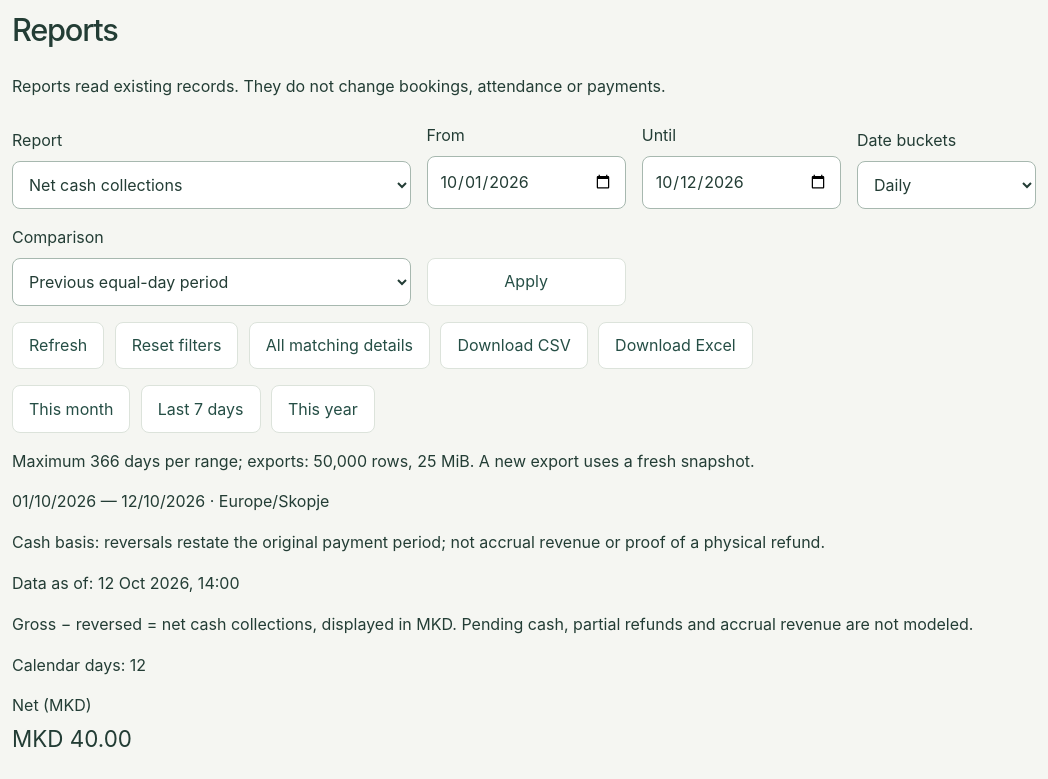
it: applies a studio-day preset and explains incomplete custom comparisons
Expected: the text "Europe/Skopje" is shown, [219,492,329,512]
Click the button "Last 7 days": (201,409) [141,385,261,433]
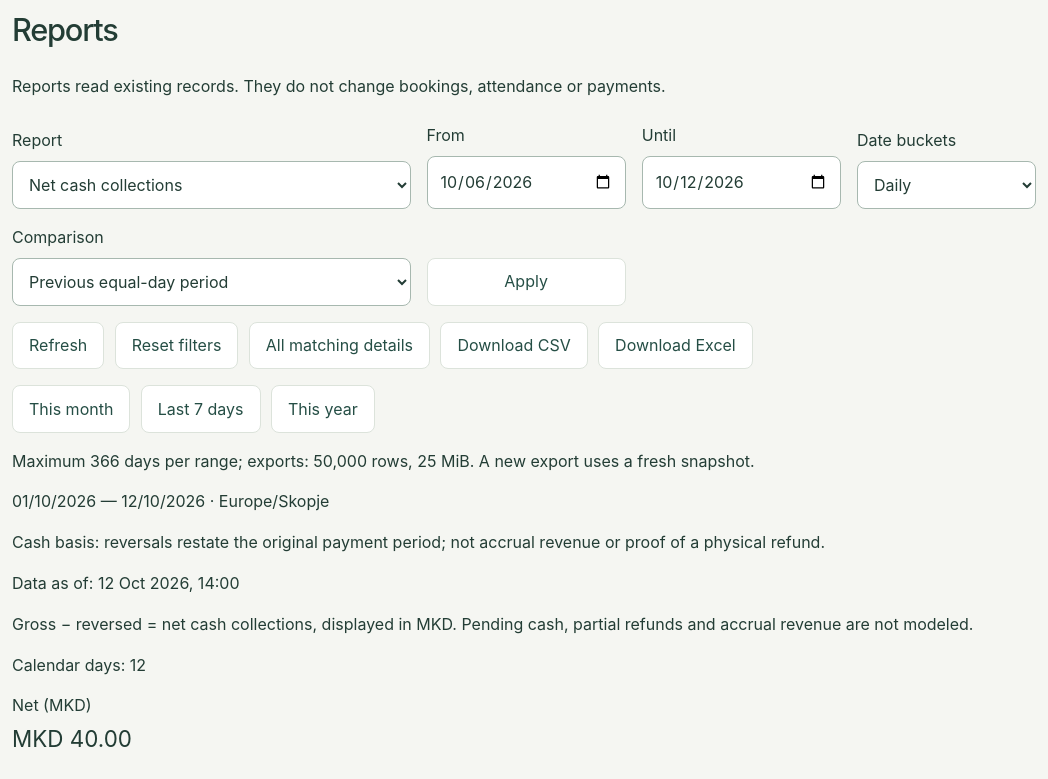
Expected: the text "Europe/Skopje" is shown, [219,492,329,512]
Select "Custom period" in the dropdown labelled "Comparison": (211,282) [12,258,410,306]
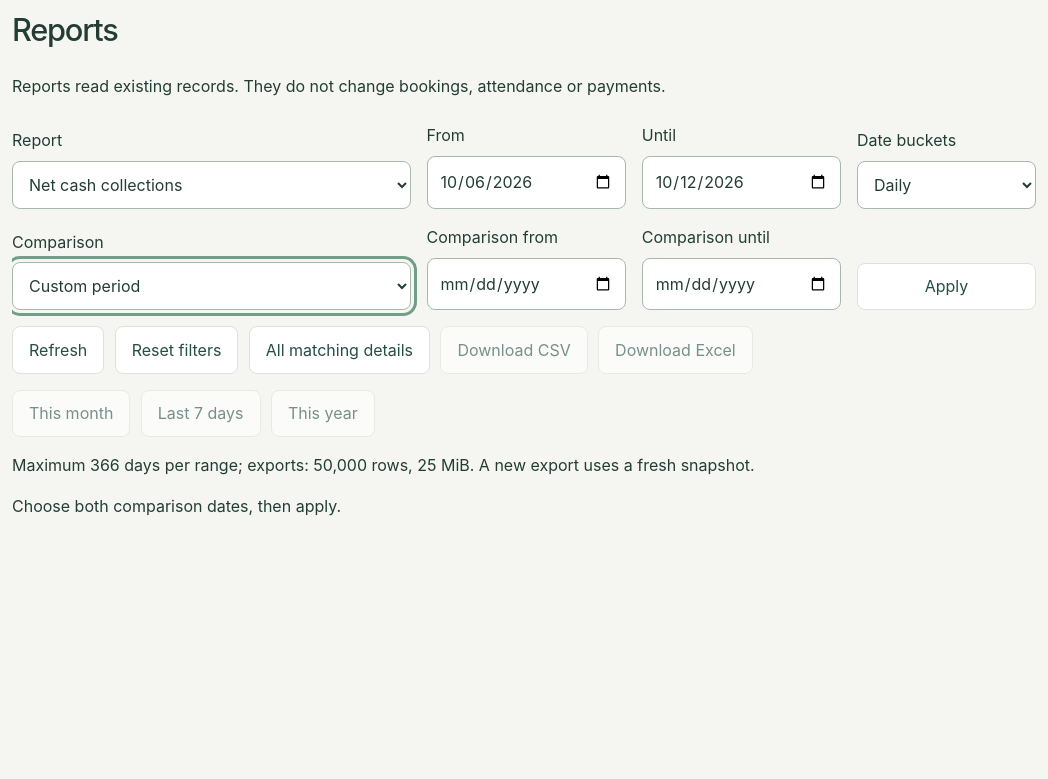
Result: the message shows "Choose both comparison dates" at [12,496,341,516]
